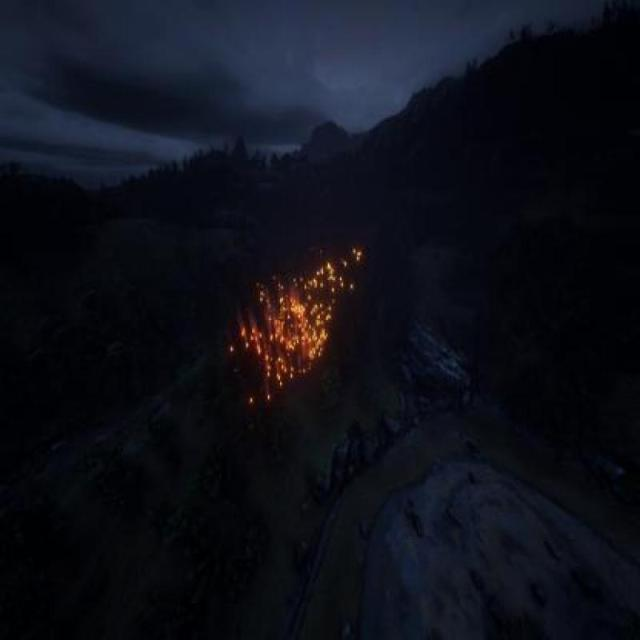Fire: (231, 266, 311, 424), (316, 238, 366, 364)
